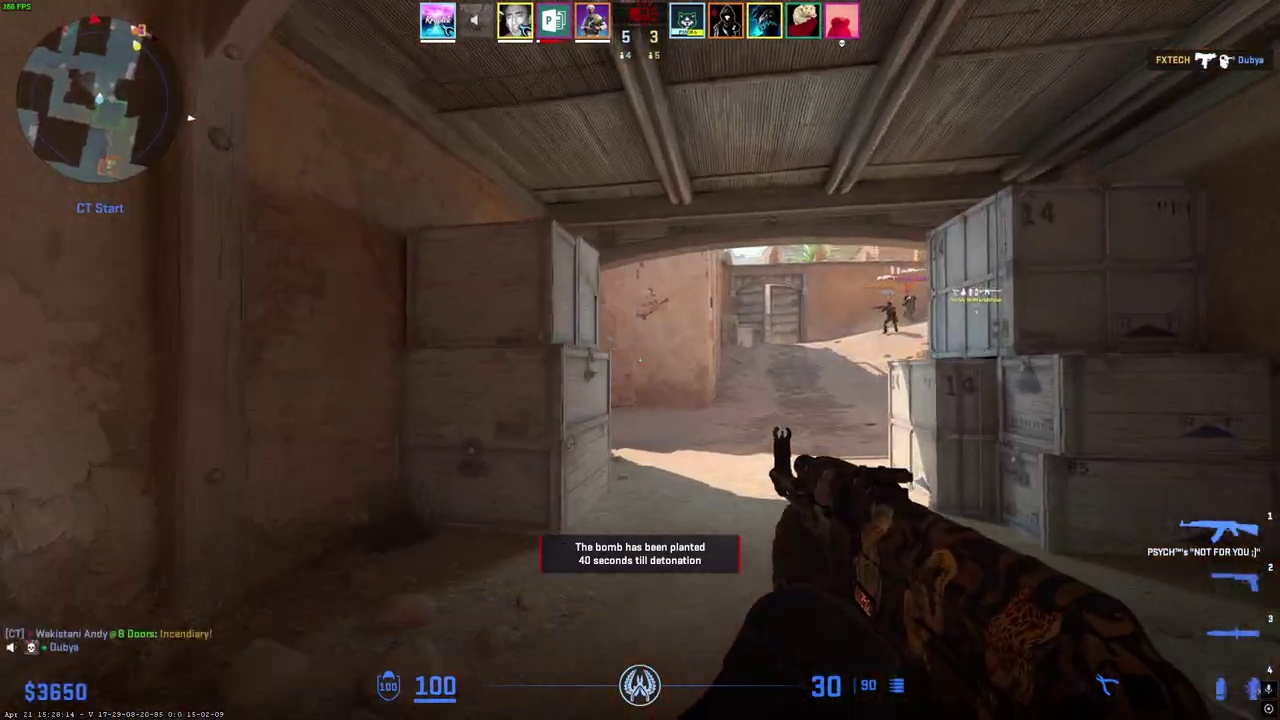CT: (883, 301, 898, 334), (902, 295, 916, 324)
